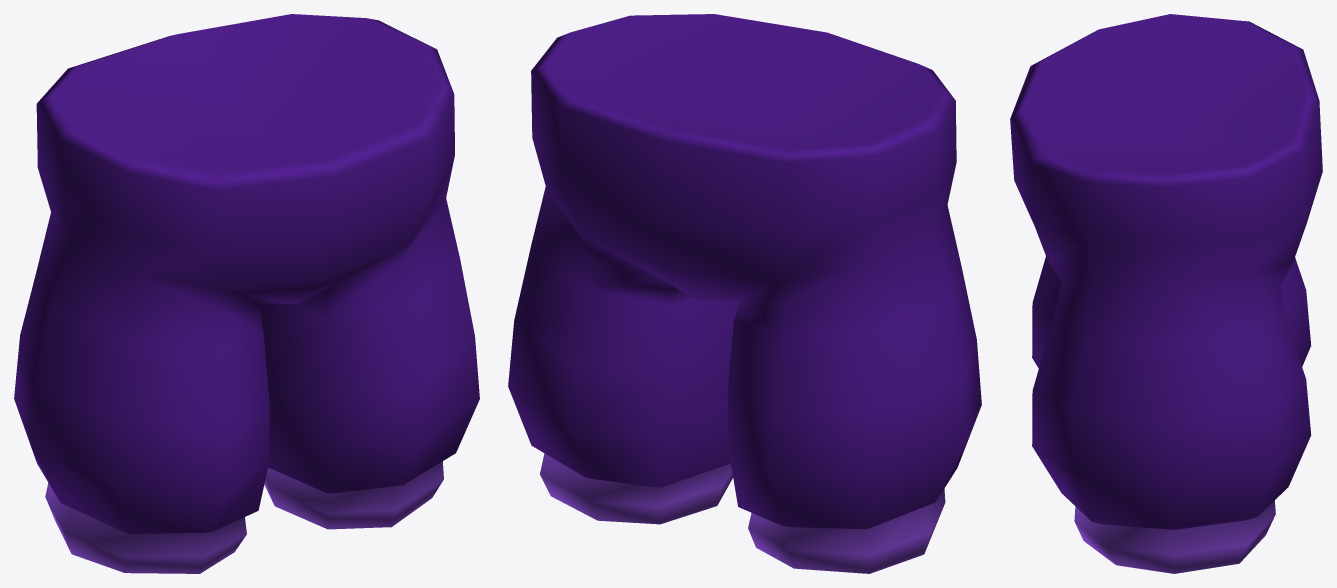
The model's file is Bottom_38.fbx.
3 views of the same model, side by side, from view 1: azimuth 30°, elevation 25°; view 2: azimuth 150°, elevation 25°; view 3: azimuth 270°, elevation 25° (orthographic). The views are drawn at different scales.
Parts seen in each view (by area): view 1: Bottom_38; view 2: Bottom_38; view 3: Bottom_38.
Part boxes in pixels (<box>): Bottom_38: <box>14,14,479,573</box>; Bottom_38: <box>508,14,981,573</box>; Bottom_38: <box>1010,14,1322,573</box>.
Bounding box in the file's own units: 44.37 × 42.66 × 29.68.
